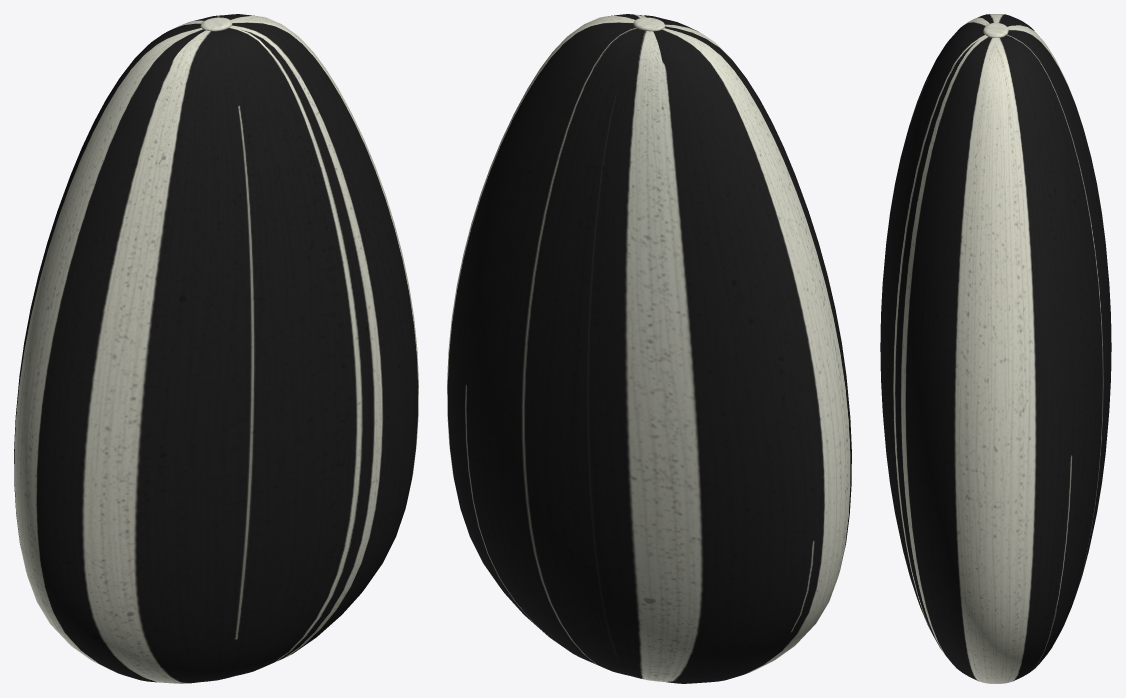
File: Sunflower_Seed_High_Poly.obj
3 views of the same model, side by side, from view 1: azimuth 30°, elevation 25°; view 2: azimuth 150°, elevation 25°; view 3: azimuth 270°, elevation 25° (orthographic). The views are drawn at different scales.
Parts seen in each view (by area): view 1: Sunflower_Seed_Sphere.001; view 2: Sunflower_Seed_Sphere.001; view 3: Sunflower_Seed_Sphere.001.
Part boxes in pixels (x1=…): Sunflower_Seed_Sphere.001: x1=14, y1=14, x2=418, y2=683; Sunflower_Seed_Sphere.001: x1=447, y1=14, x2=851, y2=683; Sunflower_Seed_Sphere.001: x1=880, y1=14, x2=1111, y2=683.
Bounding box in the file's own units: 1.82 × 2.9 × 0.965.
